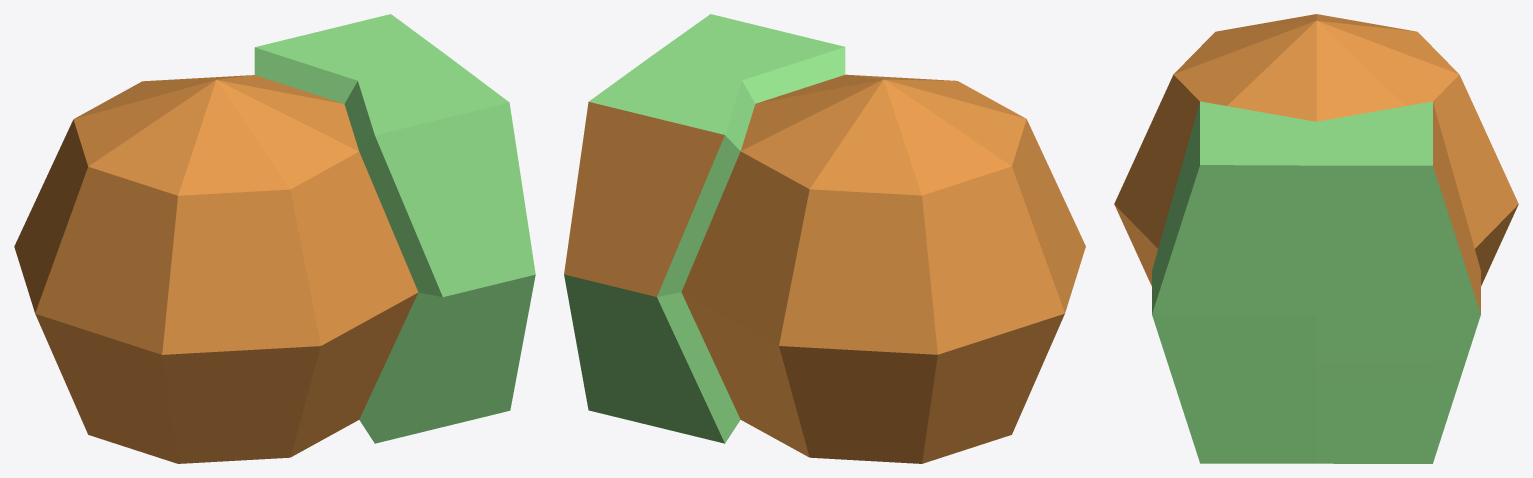
The model's file is MaoBoss.fbx.
3 renders of one model, left to right at view 1: azimuth 30°, elevation 25°; view 2: azimuth 150°, elevation 25°; view 3: azimuth 270°, elevation 25°, orthographic. The views are drawn at different scales.
Visible parts, largest first — view 1: Cube; view 2: Cube; view 3: Cube.
Part boxes in pixels (x1=…): Cube: x1=14, y1=14, x2=535, y2=463; Cube: x1=564, y1=14, x2=1085, y2=463; Cube: x1=1114, y1=14, x2=1518, y2=463.
Bounding box in the file's own units: 162 × 140 × 140.
